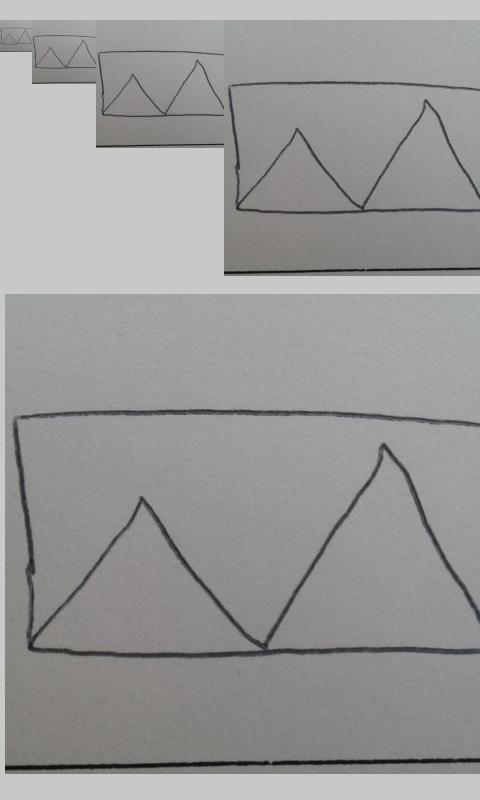image_view: (12, 405, 480, 667), (226, 76, 480, 218), (98, 49, 224, 118), (33, 34, 97, 69), (1, 27, 32, 45)
